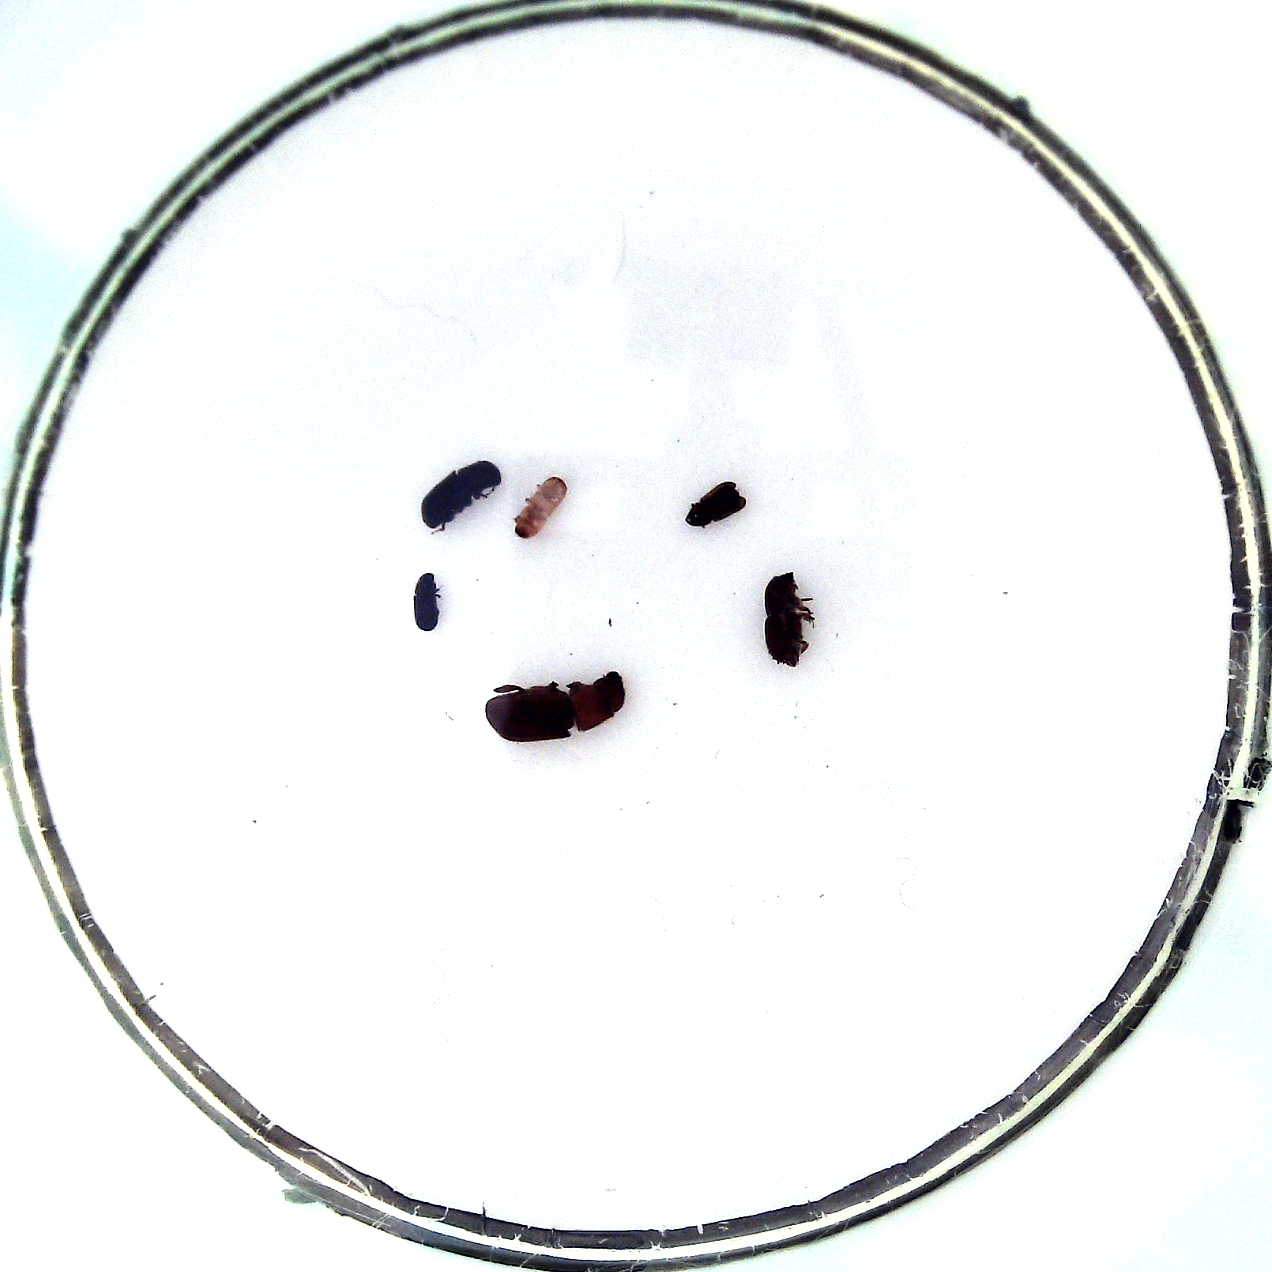Leconte: (485, 671, 626, 742)
acuminatus: (414, 573, 440, 631)
armandi: (421, 460, 502, 528)
coleoptera: (514, 476, 567, 538), (683, 480, 745, 527)
linnaeus: (764, 572, 805, 667)
